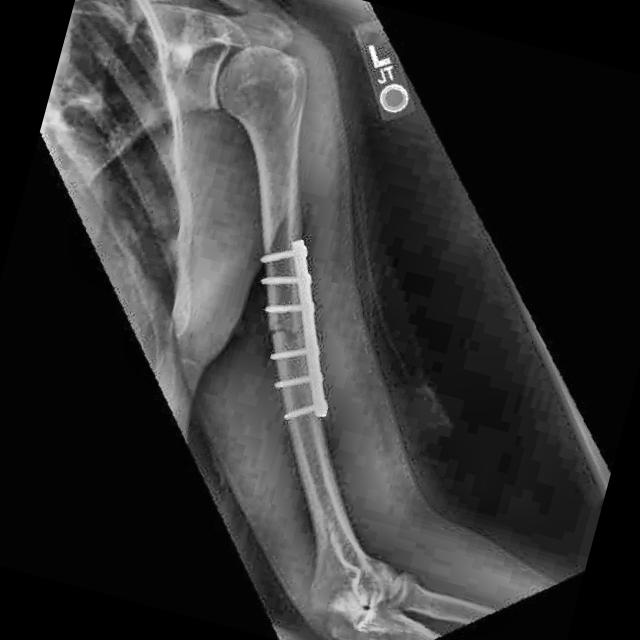humerus: (256, 316, 303, 353)
